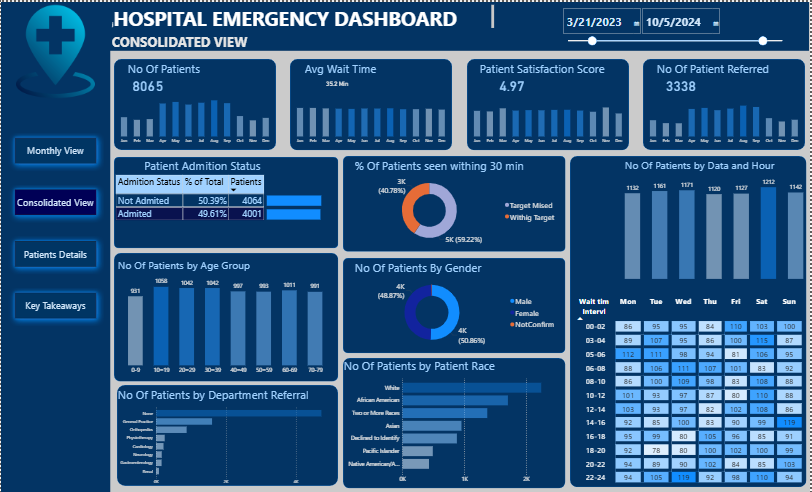

The page's visual inventory and layout, read from the dashboard file:
{"tool":"powerbi","page":{"name":"Consolidated View","canvas":[2300,1400],"ordinal":1},"visuals":[{"type":"shape","box":[321.5,162.2,461,258.9],"z":0},{"type":"shape","box":[0,0,310.9,1400.5],"z":1000},{"type":"shape","box":[310.9,0,1989.1,138.8],"z":2000},{"type":"textbox","box":[310,2.5,1097.5,80],"z":3000},{"type":"textbox","box":[310.2,82.5,472.4,71.1],"z":4000},{"type":"card","fields":{"Values":["Hospital ER_Data.No Of Patients"]},"box":[355.7,193.5,125.2,85.4],"z":5000},{"type":"slicer","fields":{"Values":["Data Table.Date"]},"box":[1587.8,8.5,657.3,119.5],"z":6000},{"type":"textbox","box":[355.7,162.2,310.2,59.8],"z":7000},{"type":"columnChart","fields":{"Category":["Data Table.Month Name"],"Y":["Hospital ER_Data.No Of Patients"]},"box":[321.5,258.9,461,153.7],"z":8000},{"type":"shape","box":[823.3,161,461,260],"z":9000},{"type":"shape","box":[321.3,440.4,638.3,259.6],"z":10000},{"type":"shape","box":[1325.1,161,461,260],"z":11000},{"type":"shape","box":[1826.8,162.2,461,258.9],"z":12000},{"type":"textbox","box":[859.3,162.2,332.9,59.8],"z":13000},{"type":"card","fields":{"Values":["Hospital ER_Data.Avg Wait Time"]},"box":[859.3,190.7,193.5,88.2],"z":14000},{"type":"columnChart","fields":{"Category":["Data Table.Month Name"],"Y":["Avg(Hospital ER_Data.Patient Waittime)"]},"box":[822.4,278.9,461,133.7],"z":15000},{"type":"textbox","box":[1357.3,162.2,429.7,59.8],"z":16000},{"type":"card","fields":{"Values":["Hospital ER_Data.Avg Patient Satisfaction Score"]},"box":[1357.3,210.6,193.5,51.2],"z":17000},{"type":"columnChart","fields":{"Category":["Data Table.Month Name"],"Y":["Avg(Hospital ER_Data.Patient Satisfaction Score)"]},"box":[1326,278.9,461,133.7],"z":18000},{"type":"textbox","box":[1861,162.2,426.8,59.8],"z":19000},{"type":"card","fields":{"Values":["Hospital ER_Data.Avg No Of Patient Referred"]},"box":[1838.2,210.6,193.5,51.2],"z":20000},{"type":"columnChart","fields":{"Y":["Hospital ER_Data.No. Of Patient Referred"],"Category":["Data Table.Month Name"]},"box":[1826.8,278.9,461,133.7],"z":21000},{"type":"pivotTable","title":"Patient Admition Status","fields":{"Rows":["Hospital ER_Data.Admition Status"],"Values":["Hospital ER_Data.No Of Patients","Hospital ER_Data.No Of Patients1"]},"box":[321.5,443.9,503.7,256.1],"z":22000},{"type":"barChart","fields":{"Category":["Hospital ER_Data.Admition Status"],"Y":["Hospital ER_Data.No Of Patients"]},"box":[751.2,517.9,239,128],"z":23000},{"type":"shape","box":[321.3,714.9,638.3,366],"z":24000},{"type":"clusteredColumnChart","fields":{"Category":["Hospital ER_Data.Age Group"],"Y":["Hospital ER_Data.No Of Patients"]},"box":[327.7,727.7,623.4,340.4],"z":25000},{"type":"shape","box":[329,1090.3,629,287.1],"z":26000},{"type":"clusteredBarChart","fields":{"Category":["Hospital ER_Data.Department Referral"],"Y":["Hospital ER_Data.No Of Patients"]},"box":[327.3,1096.4,623.6,287.3],"z":27000},{"type":"shape","box":[972.2,438.9,633.3,272.2],"z":28000},{"type":"shape","box":[972.7,727.3,632.7,270.9],"z":29000},{"type":"donutChart","title":"% Of Patients seen withing 30 min","fields":{"Category":["Hospital ER_Data.Waitting time status"],"Y":["Hospital ER_Data.No Of Patients"]},"box":[1002.5,445,587.5,255],"z":30000},{"type":"donutChart","title":"No Of Patients By Gender","fields":{"Y":["Hospital ER_Data.No Of Patients"],"Category":["Hospital ER_Data.Patient Gender"]},"box":[1002.5,735,587.5,255],"z":31000},{"type":"shape","box":[972.7,1012.7,632.7,370.9],"z":32000},{"type":"shape","box":[1618.2,439.4,672.7,942.4],"z":33000},{"type":"pivotTable","fields":{"Rows":["Hospital ER_Data.Wait tim Intervl"],"Columns":["Data Table.Data Name"],"Values":["Hospital ER_Data.No Of Patients"]},"box":[1630.5,830.9,665.9,552],"z":34000},{"type":"clusteredColumnChart","title":"No Of Patients by Data and Hour","fields":{"Category":["Data Table.Data Name"],"Y":["Hospital ER_Data.No Of Patients"]},"box":[1769.9,443.9,520.7,350],"z":35000},{"type":"image","box":[0,2.8,310.2,276],"z":36000},{"type":"clusteredBarChart","fields":{"Y":["Hospital ER_Data.No Of Patients"],"Category":["Hospital ER_Data.Patient Race"]},"box":[971,1012.9,635.5,364.5],"z":37000},{"type":"pageNavigator","box":[17.1,364.2,276,560.6],"z":38000}]}

Visuals, with their boxes in screenshot pixels (x1, y1, x2, y2), scaled from the page's 2300x1400 canvas onto the 812x492 screenshot:
shape: <region>114, 57, 276, 148</region>
shape: <region>0, 0, 110, 491</region>
shape: <region>110, 0, 811, 49</region>
textbox: <region>109, 1, 497, 29</region>
textbox: <region>110, 29, 276, 54</region>
card - Hospital ER_Data.No Of Patients: <region>126, 68, 170, 98</region>
slicer - Data Table.Date: <region>561, 3, 793, 45</region>
textbox: <region>126, 57, 235, 78</region>
columnChart - Data Table.Month Name x Hospital ER_Data.No Of Patients: <region>114, 91, 276, 145</region>
shape: <region>291, 57, 453, 148</region>
shape: <region>113, 155, 339, 246</region>
shape: <region>468, 57, 631, 148</region>
shape: <region>645, 57, 808, 148</region>
textbox: <region>303, 57, 421, 78</region>
card - Hospital ER_Data.Avg Wait Time: <region>303, 67, 372, 98</region>
columnChart - Data Table.Month Name x Avg(Hospital ER_Data.Patient Waittime): <region>290, 98, 453, 145</region>
textbox: <region>479, 57, 631, 78</region>
card - Hospital ER_Data.Avg Patient Satisfaction Score: <region>479, 74, 547, 92</region>
columnChart - Data Table.Month Name x Avg(Hospital ER_Data.Patient Satisfaction Score): <region>468, 98, 631, 145</region>
textbox: <region>657, 57, 808, 78</region>
card - Hospital ER_Data.Avg No Of Patient Referred: <region>649, 74, 717, 92</region>
columnChart - Hospital ER_Data.No. Of Patient Referred x Data Table.Month Name: <region>645, 98, 808, 145</region>
"Patient Admition Status" pivotTable: <region>114, 156, 291, 246</region>
barChart - Hospital ER_Data.Admition Status x Hospital ER_Data.No Of Patients: <region>265, 182, 350, 227</region>
shape: <region>113, 251, 339, 380</region>
clusteredColumnChart - Hospital ER_Data.Age Group x Hospital ER_Data.No Of Patients: <region>116, 256, 336, 375</region>
shape: <region>116, 383, 338, 484</region>
clusteredBarChart - Hospital ER_Data.Department Referral x Hospital ER_Data.No Of Patients: <region>116, 385, 336, 486</region>
shape: <region>343, 154, 567, 250</region>
shape: <region>343, 256, 567, 351</region>
"% Of Patients seen withing 30 min" donutChart: <region>354, 156, 561, 246</region>
"No Of Patients By Gender" donutChart: <region>354, 258, 561, 348</region>
shape: <region>343, 356, 567, 486</region>
shape: <region>571, 154, 809, 486</region>
pivotTable - Hospital ER_Data.Wait tim Intervl x Data Table.Data Name: <region>576, 292, 811, 486</region>
"No Of Patients by Data and Hour" clusteredColumnChart: <region>625, 156, 809, 279</region>
image: <region>0, 1, 110, 98</region>
clusteredBarChart - Hospital ER_Data.No Of Patients x Hospital ER_Data.Patient Race: <region>343, 356, 567, 484</region>
pageNavigator: <region>6, 128, 103, 325</region>
